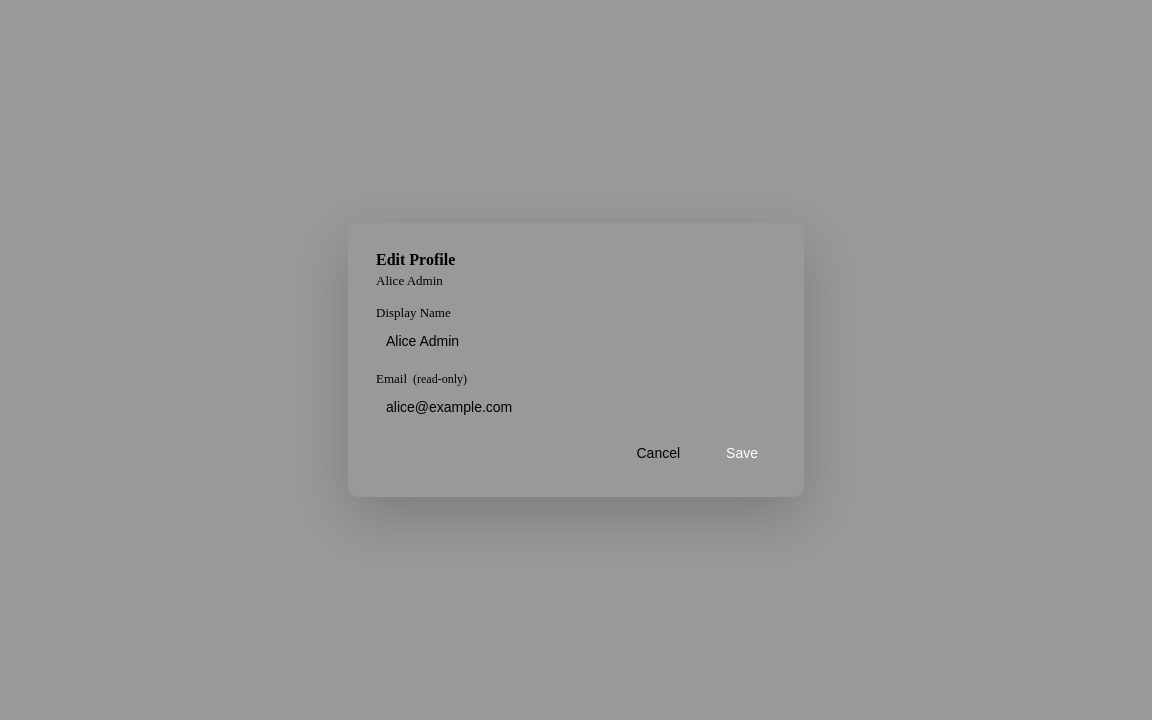
Test case: EditProfileModal — validation › shows error when display name is cleared and Save is clicked
Clear the field labelled "Display Name" at {"x": 576, "y": 341}, box [376,325,776,357]
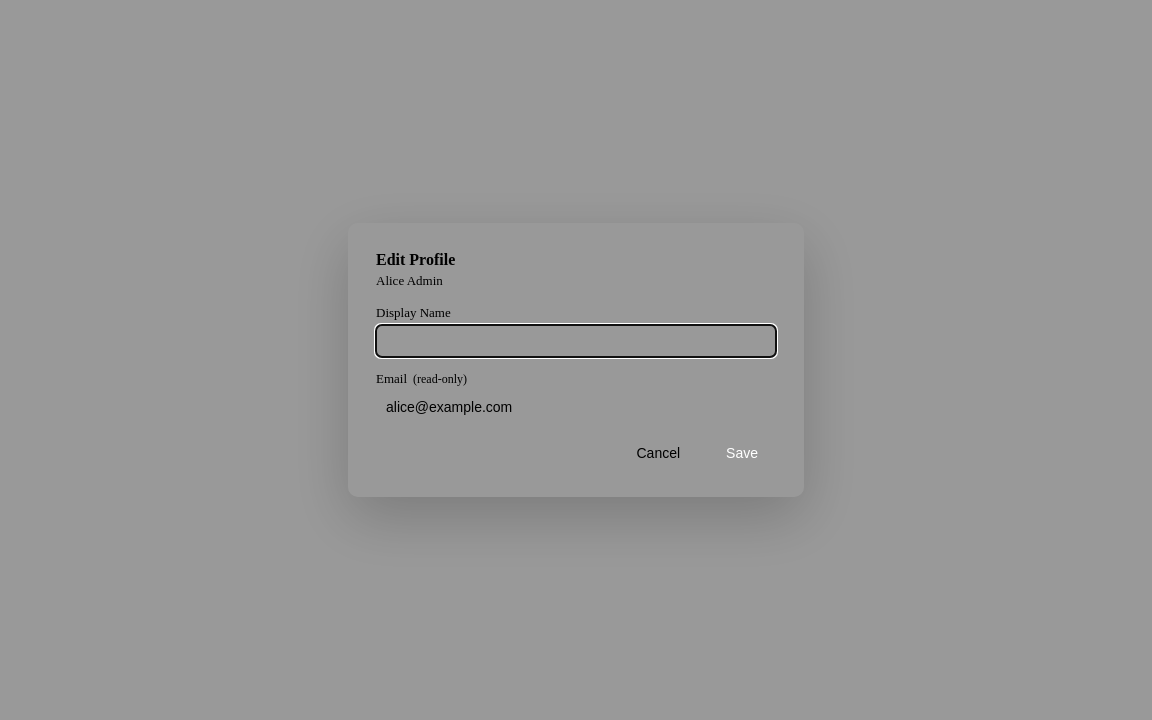
Click the button "Save" at {"x": 742, "y": 453}, box [708,437,776,469]
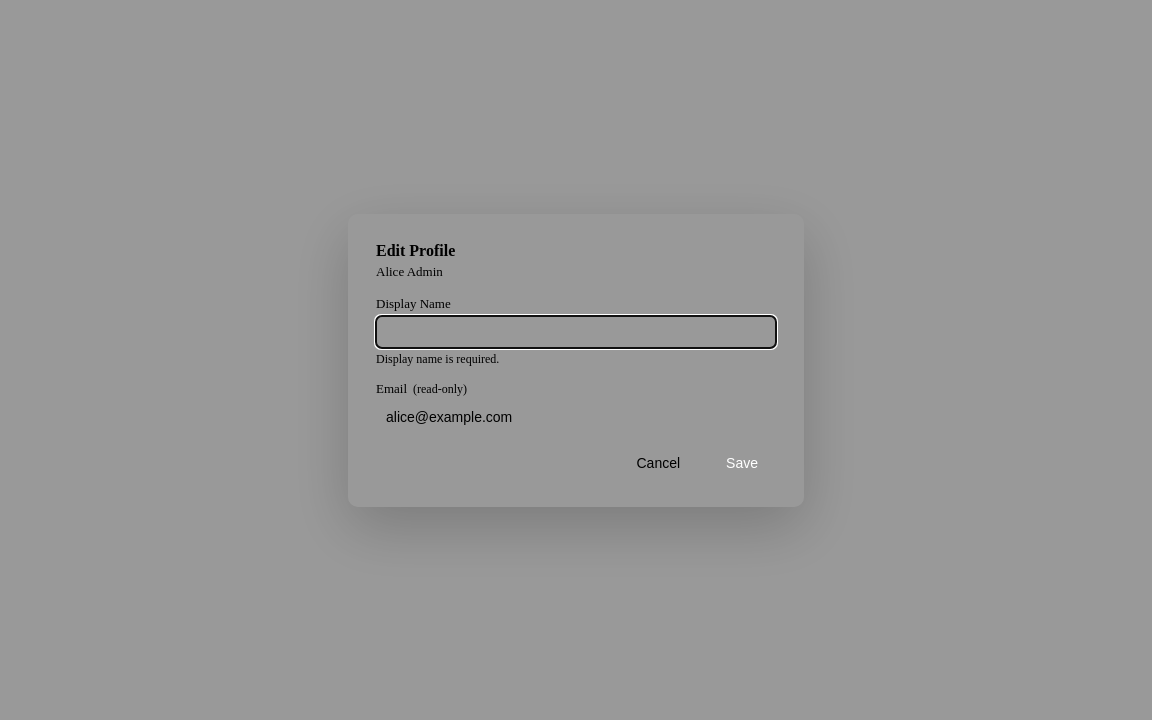
Expected: the text "Display name is required." is shown, [376,352,499,366]
